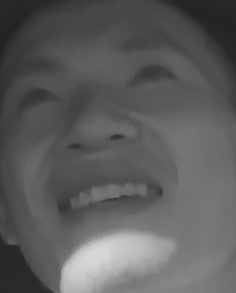eye: (123, 61, 181, 91), (12, 83, 63, 111)
mouth: (49, 165, 162, 229)
